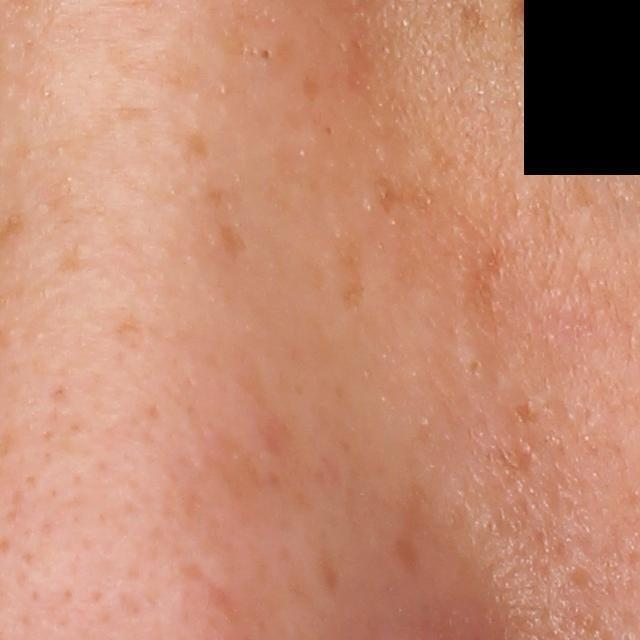comedo: (252, 41, 278, 71)
melasma: (234, 360, 305, 461), (364, 168, 443, 219), (336, 232, 374, 316), (174, 127, 219, 171), (213, 222, 250, 261), (59, 240, 88, 279), (300, 73, 326, 106)
